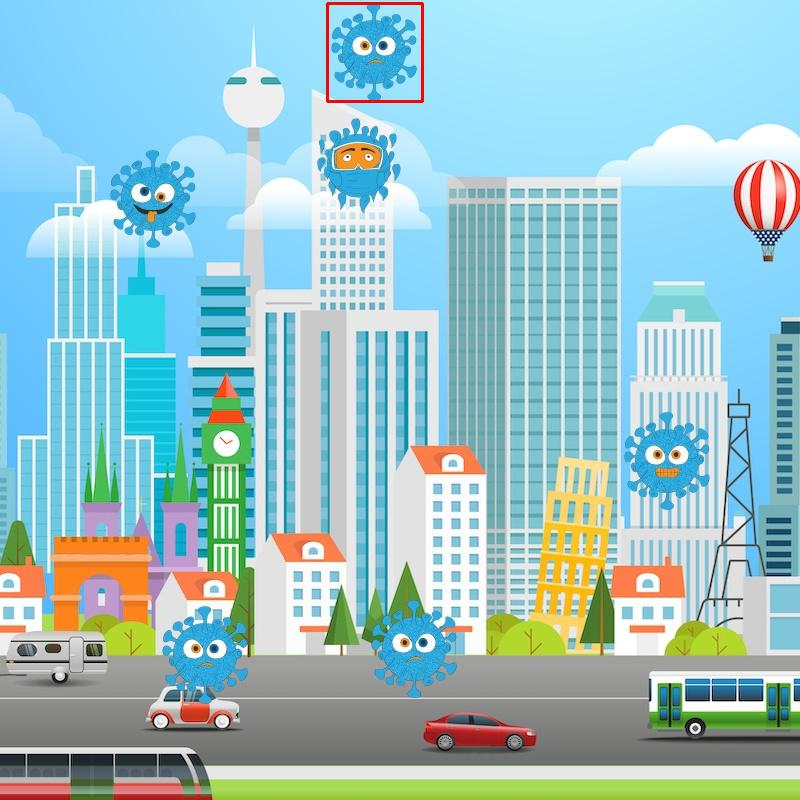corona1: (619, 421, 711, 513)
corona2: (369, 601, 470, 705), (327, 3, 419, 98), (162, 610, 248, 702)
corona3: (106, 148, 204, 248)
doctor: (314, 121, 409, 211)
